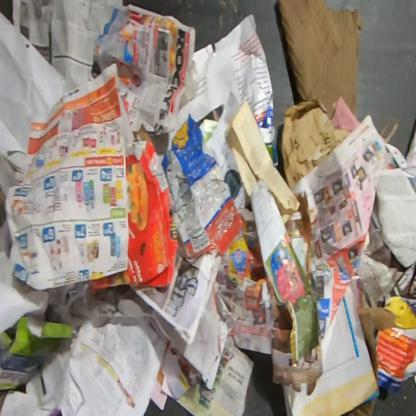cardboard: (81, 140, 179, 294), (162, 113, 246, 260), (276, 0, 362, 120), (0, 314, 75, 393), (357, 306, 399, 384)
